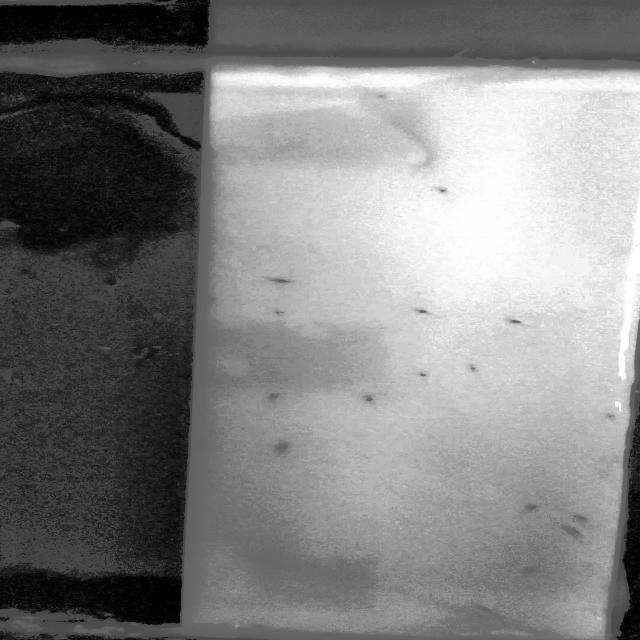shrimp: (555, 522, 588, 542), (267, 273, 301, 287), (430, 185, 455, 204), (460, 360, 482, 380), (192, 439, 216, 457), (473, 604, 506, 617), (568, 514, 602, 524), (519, 501, 545, 514), (266, 390, 289, 404), (271, 441, 293, 455), (207, 293, 226, 309), (520, 565, 547, 576), (266, 306, 284, 322), (414, 307, 440, 318), (504, 319, 530, 330), (410, 371, 434, 379), (363, 396, 381, 406)
